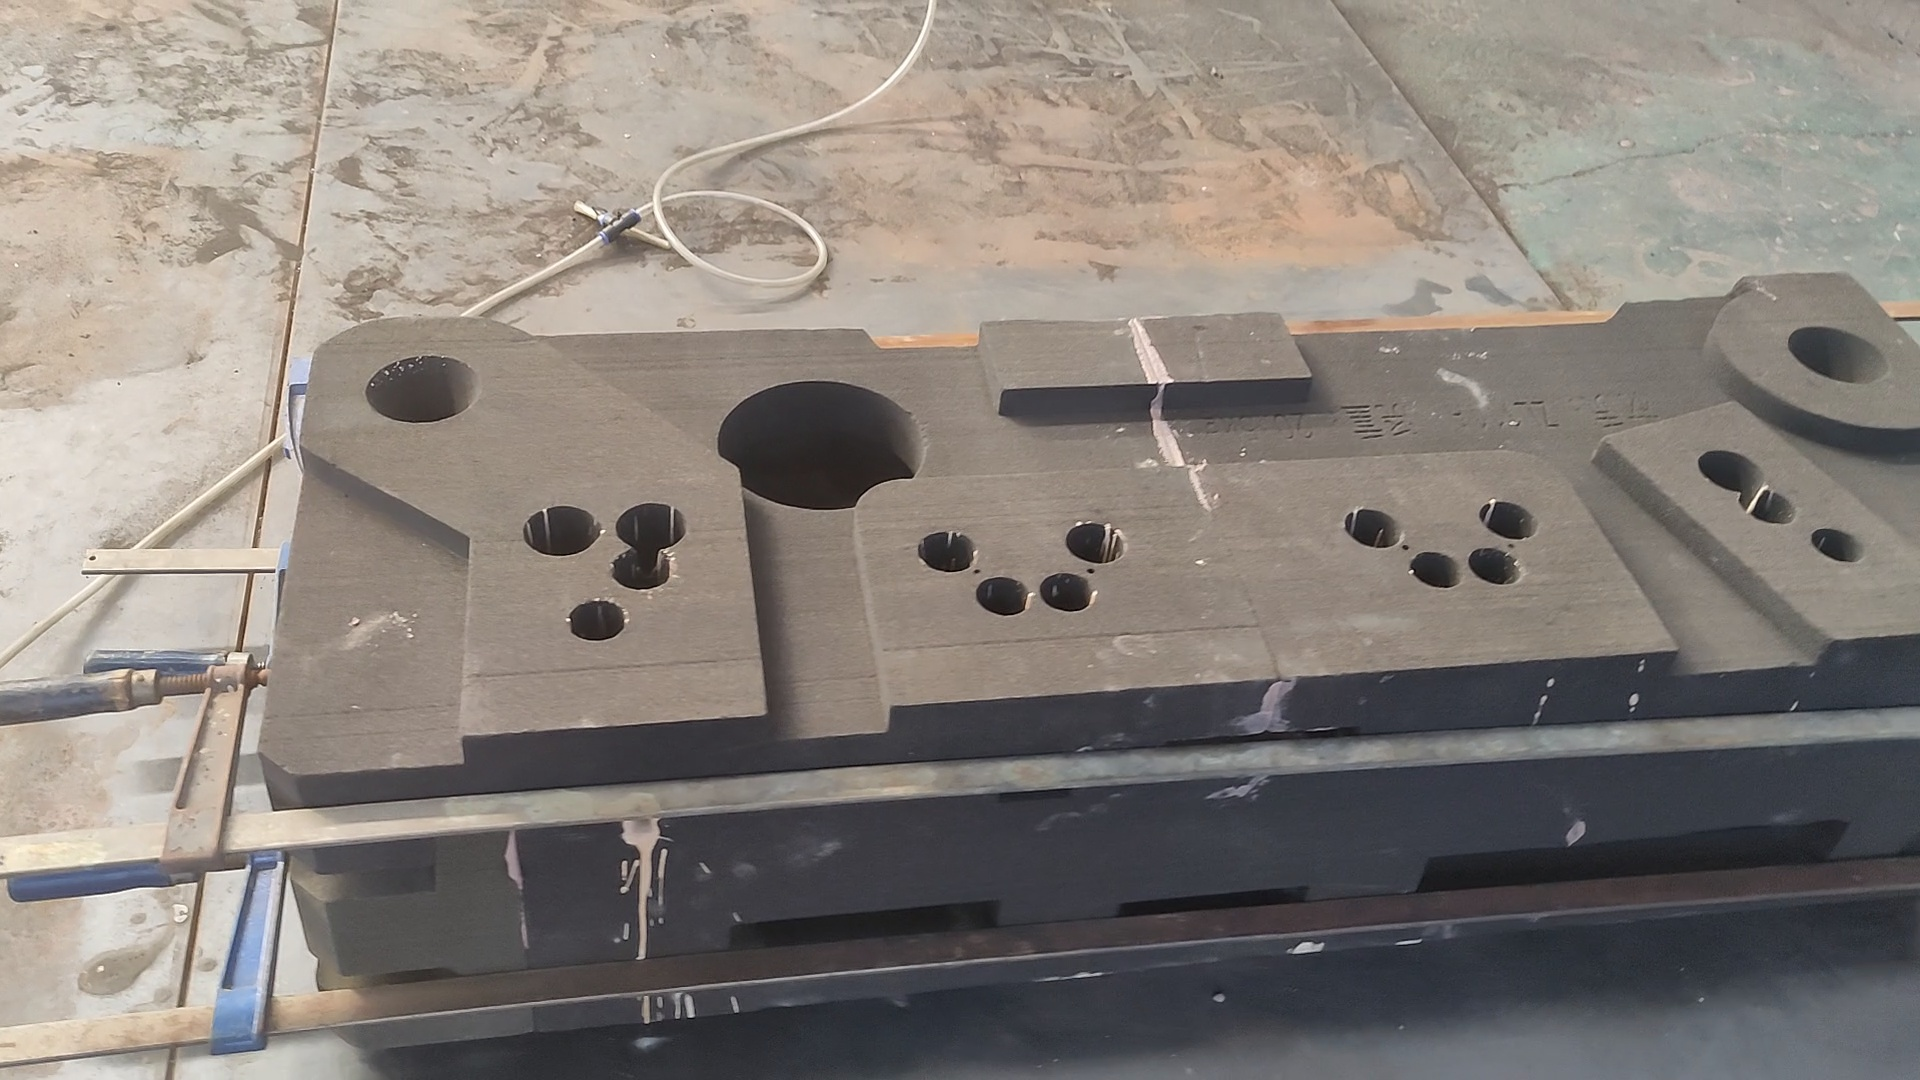pouring hole: (364, 356, 477, 422), (1789, 324, 1890, 386)
